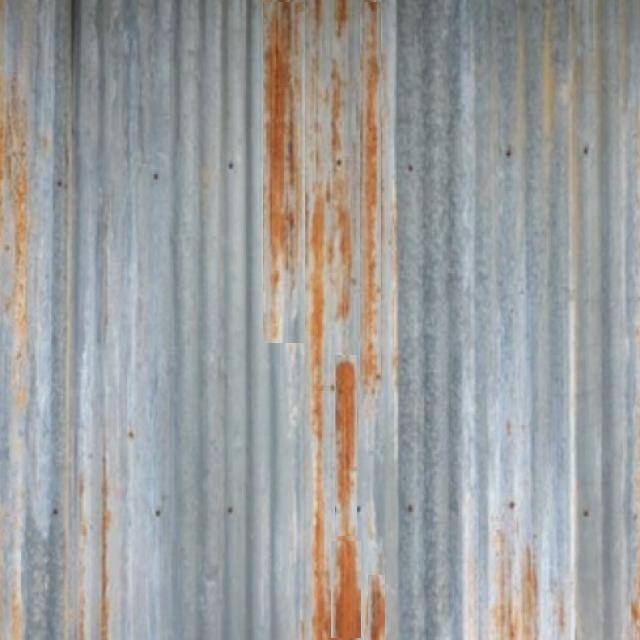Corrosion: (306, 195, 330, 640), (335, 360, 362, 640), (263, 17, 286, 344), (362, 0, 382, 354)
